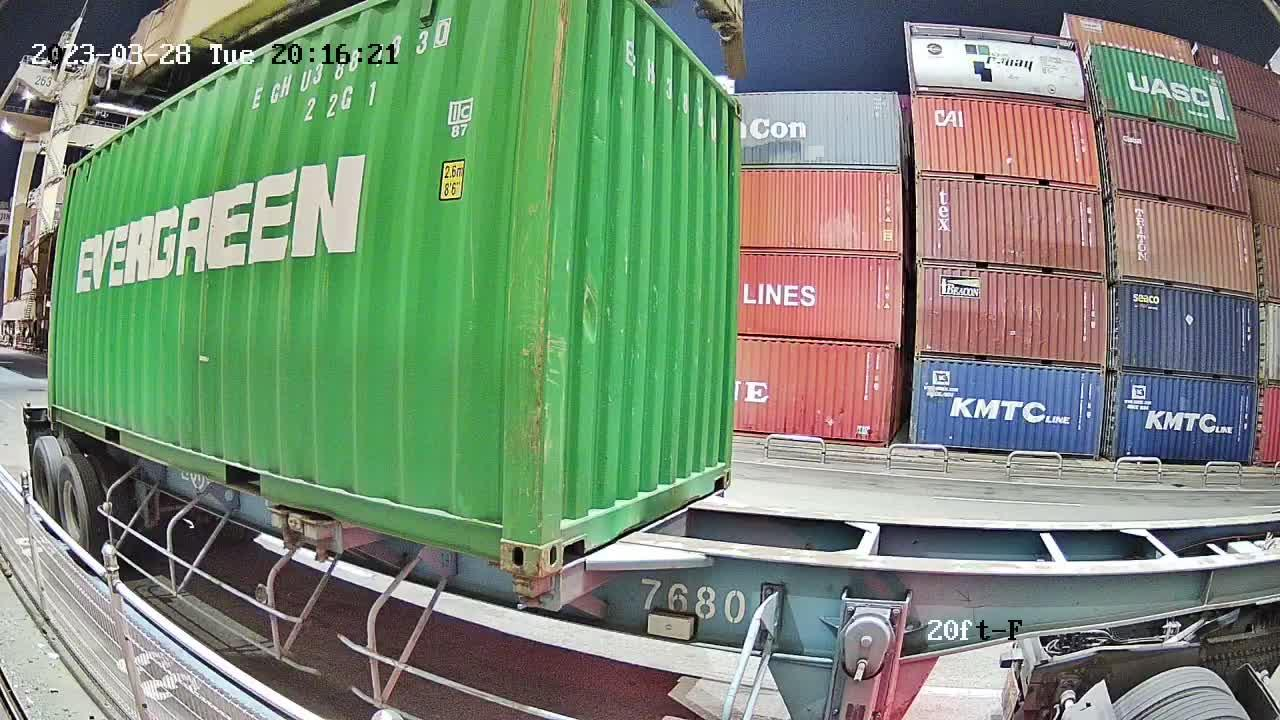Chassis: (510, 492, 722, 606)
Cone: (510, 575, 552, 610)
Hole_L: (540, 489, 592, 577)
Hole_R: (466, 492, 540, 576), (706, 449, 732, 495)
Tire: (58, 461, 88, 555), (32, 440, 57, 523)
